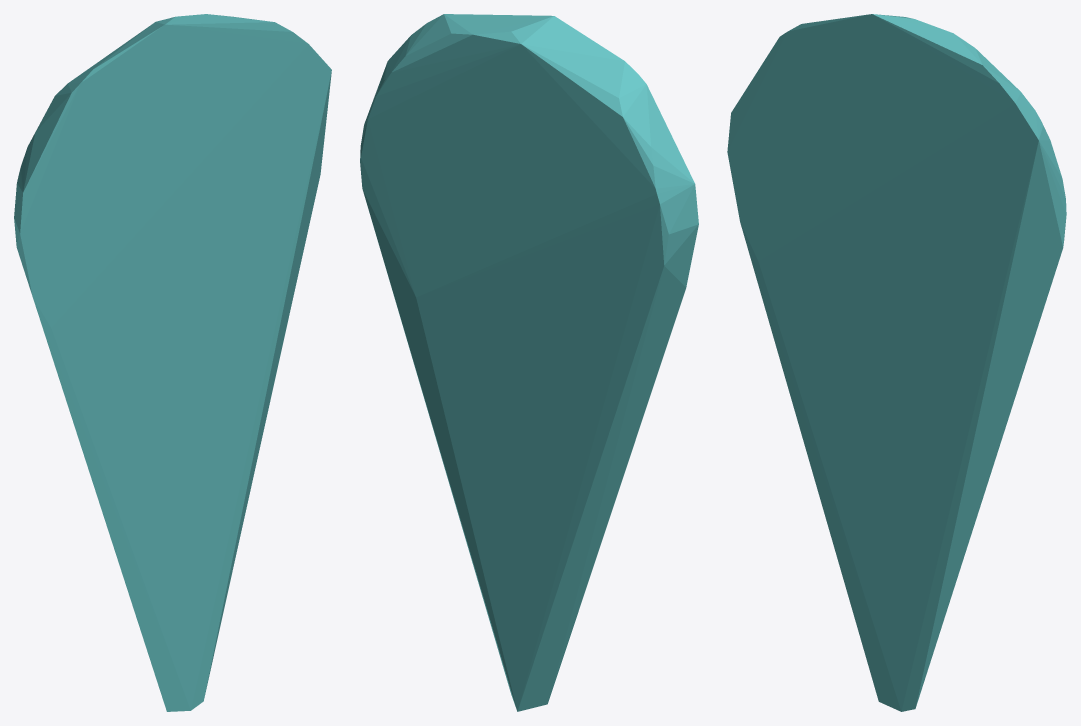
File: kitchenware_pan_r01.glb
The picture shows the model from 3 angles, left to right: view 1: azimuth 30°, elevation 25°; view 2: azimuth 150°, elevation 25°; view 3: azimuth 330°, elevation 25°; orthographic projection.
Visible parts, largest first — view 1: geometry_0; view 2: geometry_0; view 3: geometry_0.
Part boxes in pixels (x1=…): geometry_0: x1=14, y1=14, x2=331, y2=711; geometry_0: x1=360, y1=14, x2=698, y2=711; geometry_0: x1=727, y1=14, x2=1066, y2=711.
Size of the model in its own units: 0.2297 by 0.4786 by 0.027.
